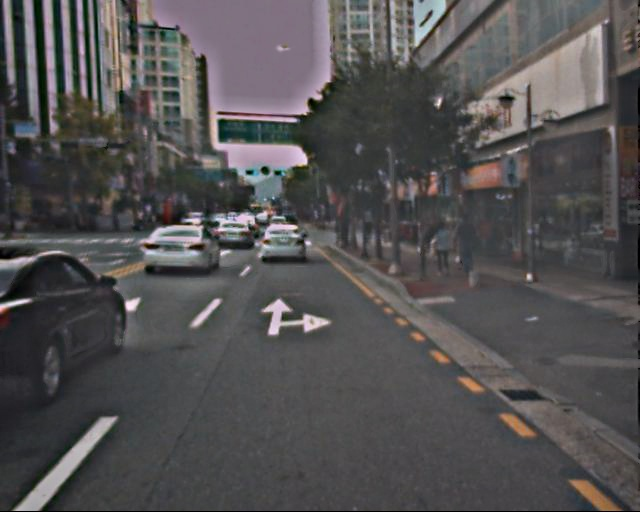person: (454, 214, 480, 277), (432, 220, 455, 276)
